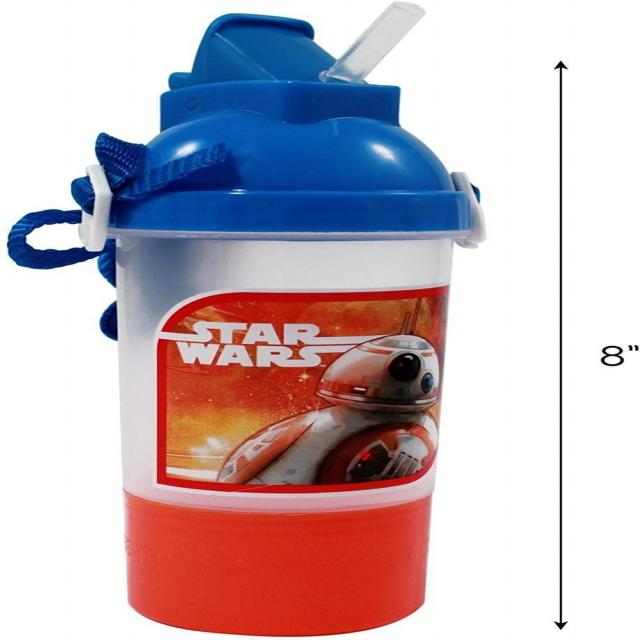gym bottle: (66, 1, 484, 640)
